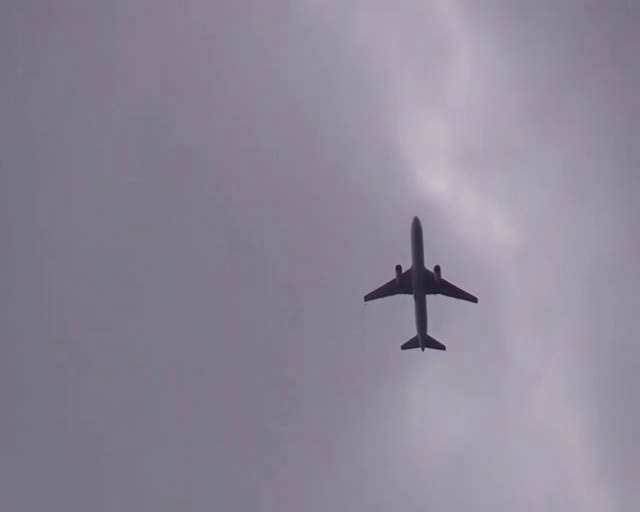AIRPLANE: (364, 215, 478, 352)
